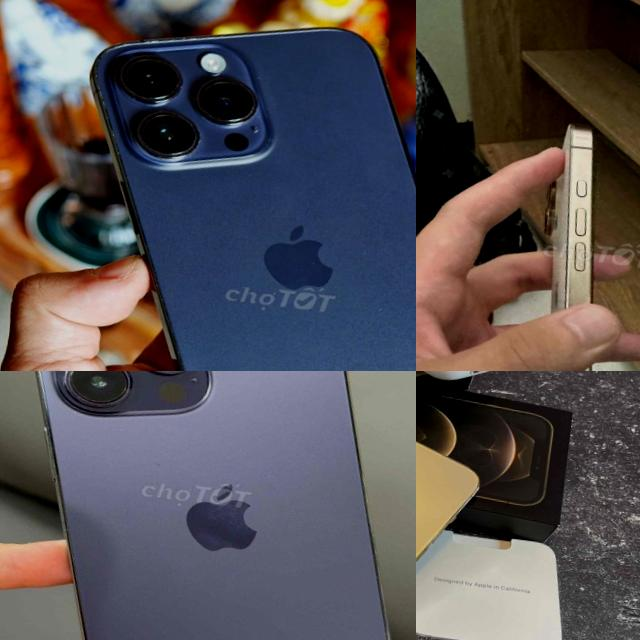gen_12_13: (416, 393, 488, 640)
gen_14: (32, 0, 416, 371), (0, 371, 416, 640)
gen_16: (496, 101, 640, 371)
